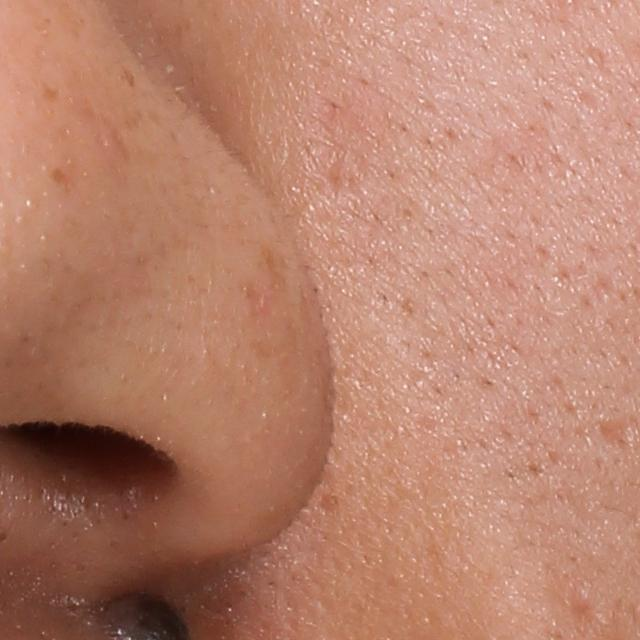atrophic_scar: (595, 415, 637, 454), (566, 592, 601, 631)
